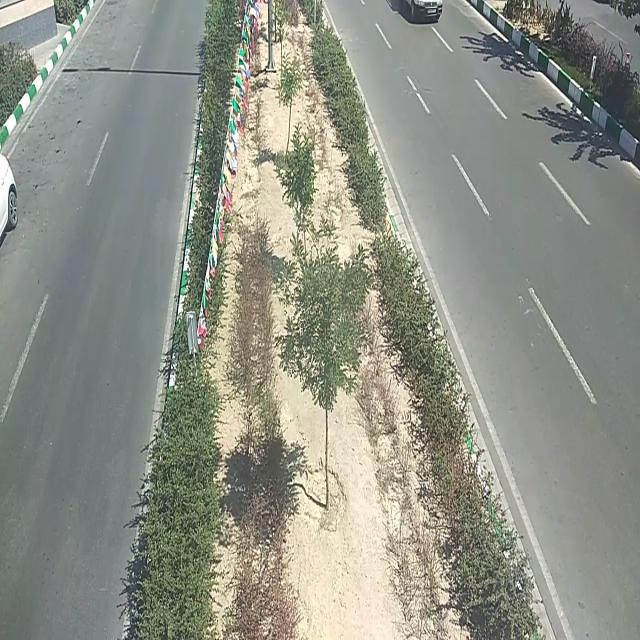car: (398, 1, 444, 23)
